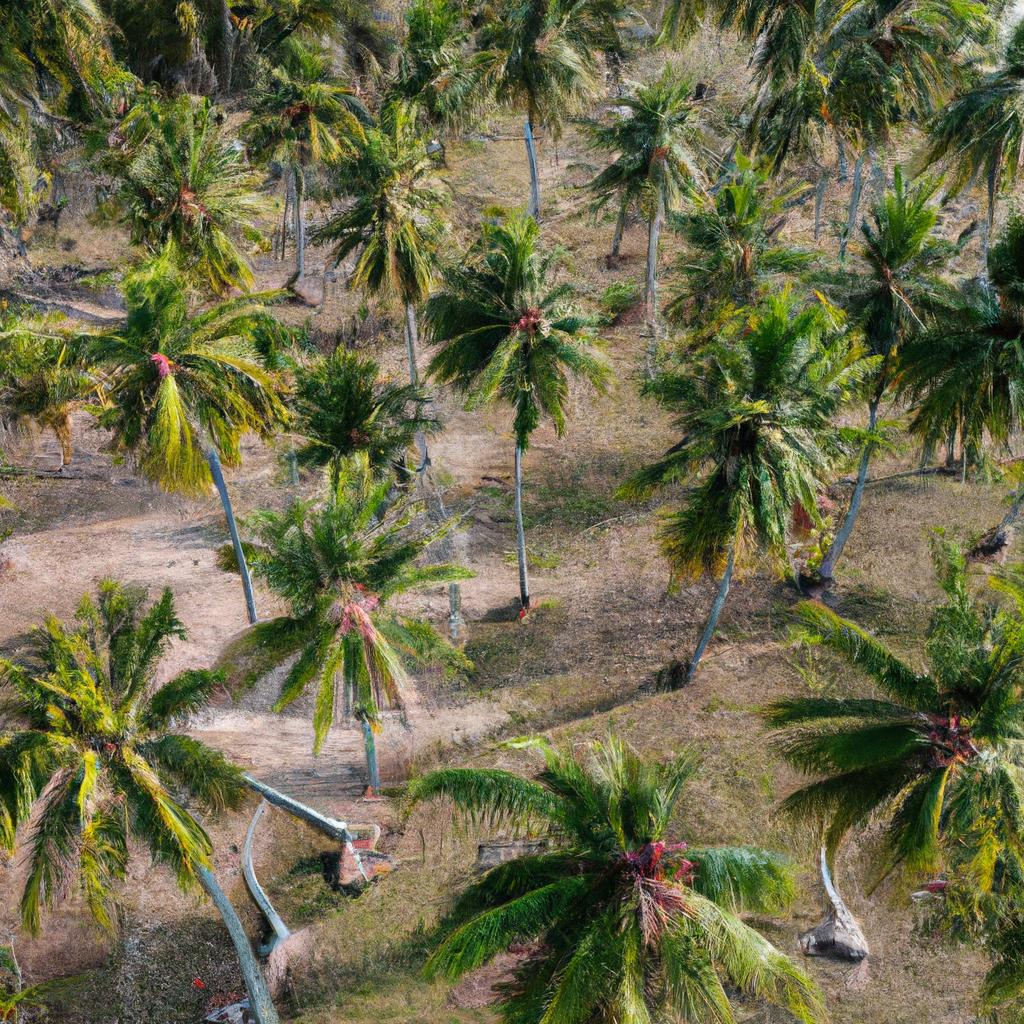coconut_tree: (390, 723, 812, 1023), (1, 583, 290, 951), (219, 453, 514, 764), (611, 290, 892, 607), (65, 228, 327, 524), (432, 202, 641, 445), (316, 108, 487, 324), (583, 51, 722, 214)
